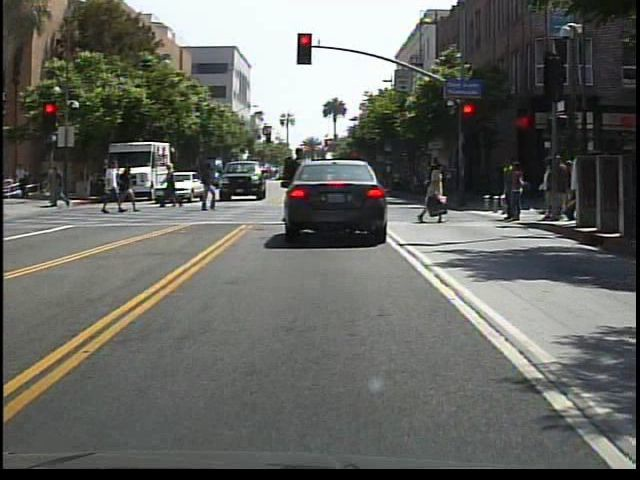person: (276, 141, 311, 229), (418, 158, 455, 228), (198, 162, 225, 215), (103, 160, 127, 219), (49, 162, 75, 214), (562, 149, 579, 223), (162, 162, 181, 212), (123, 165, 140, 214)
